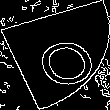O_N: (17, 23, 93, 87)
